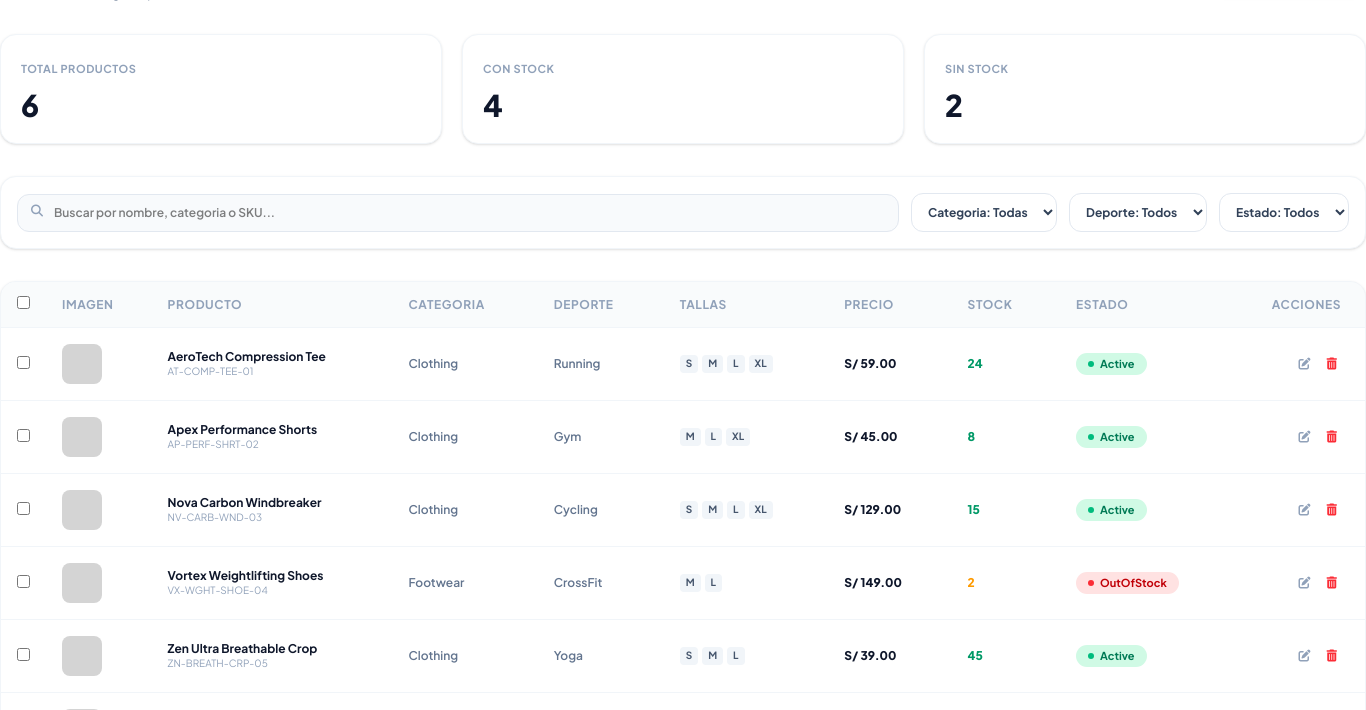
Test: AdminProducts › elimina un producto
Click the button named "Eliminar AeroTech Compression Tee".
click(1332, 364)  # box [1322, 352, 1341, 376]
(page scrolled)
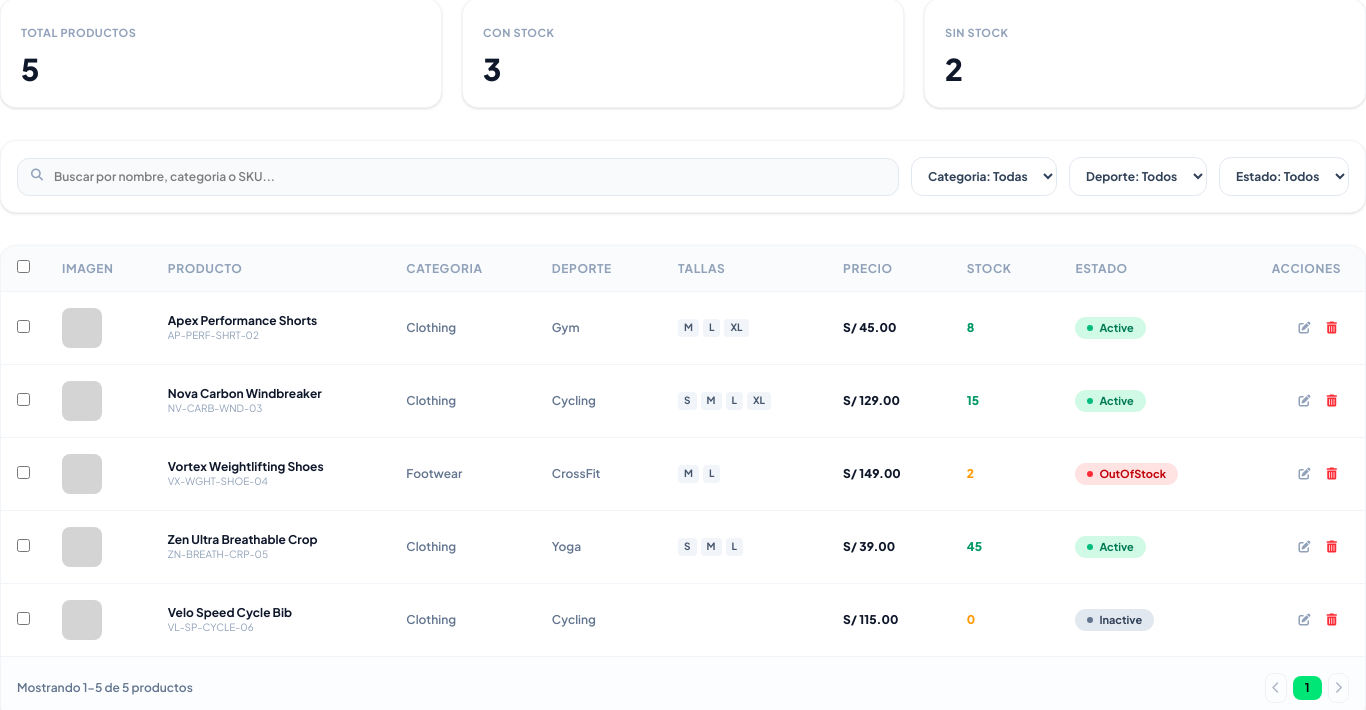
Result: the text "AeroTech Compression Tee" is gone
Result: the text "Mostrando 1-5 de 5 productos" is shown at [17, 680, 193, 696]
